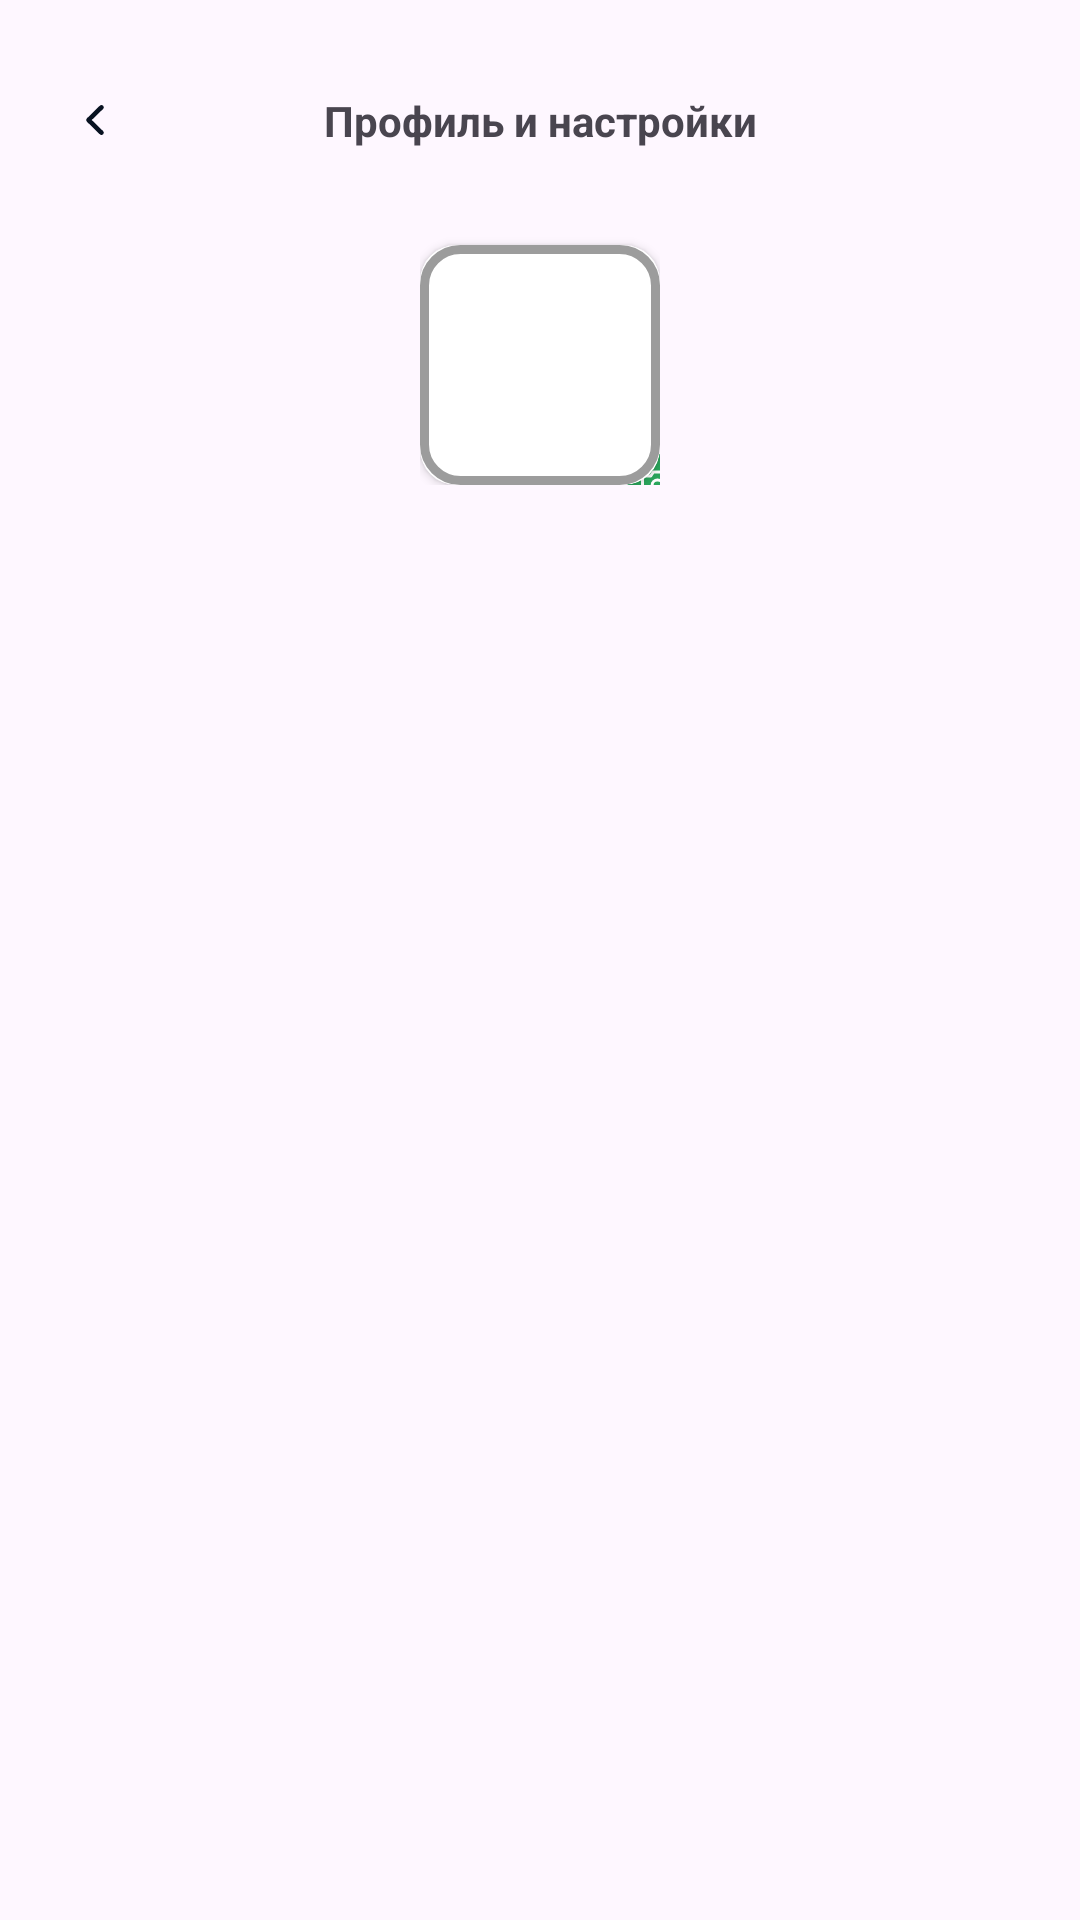

Icon click points for this 1080 x 1920 phone screenshot, format (x=x, y=y):
back: (x=95, y=120)
